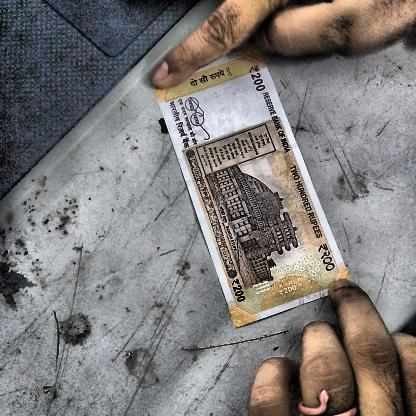Rs200: (244, 62, 270, 97), (227, 275, 251, 306)
